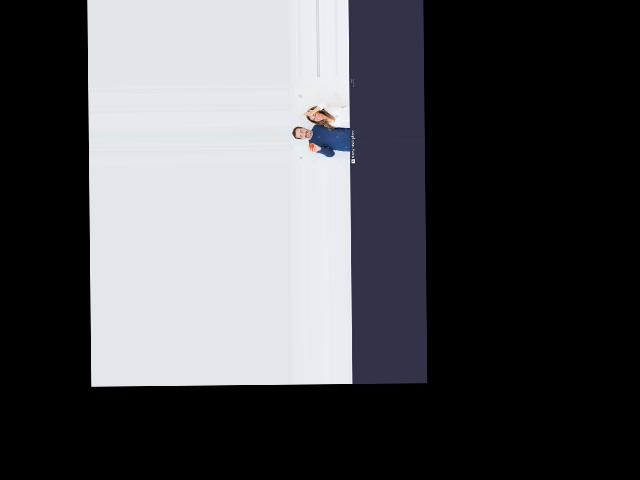tomato: (308, 142, 313, 147)
